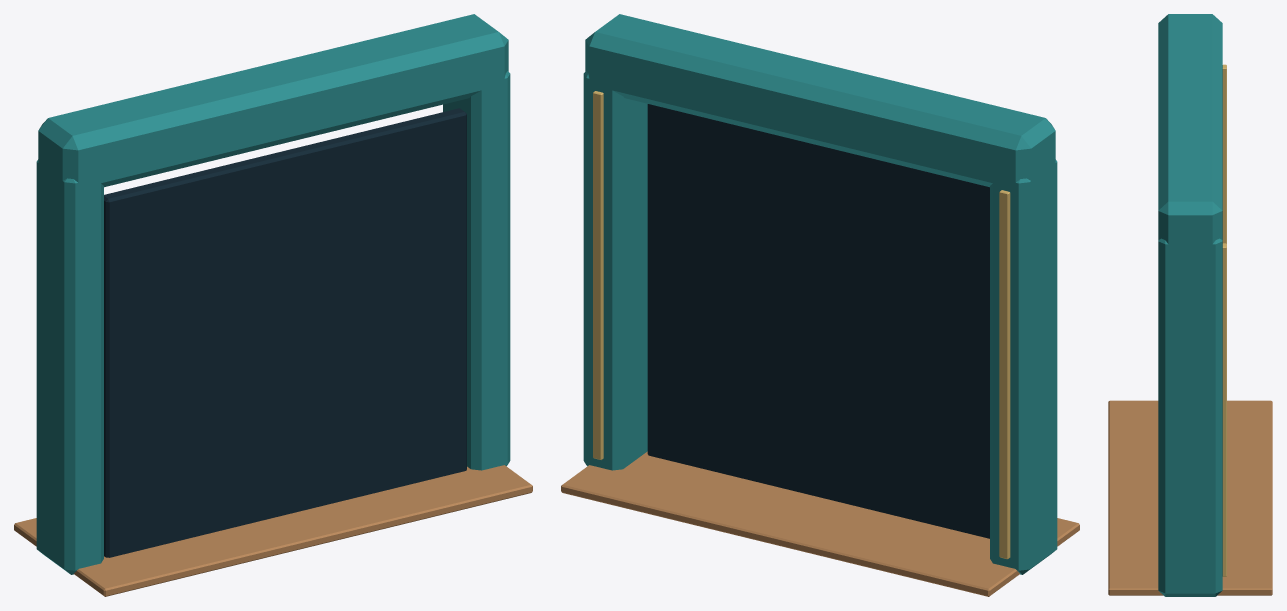
File: SM_Portal.obj
3 renders of one model, left to right at view 1: azimuth 30°, elevation 25°; view 2: azimuth 150°, elevation 25°; view 3: azimuth 270°, elevation 25°, orthographic. The views are drawn at different scales.
Visible parts, largest first — view 1: SM_Portal; view 2: SM_Portal; view 3: SM_Portal.
Boxes of the visible parts, x1=… form: SM_Portal: x1=14, y1=14, x2=532, y2=596; SM_Portal: x1=561, y1=14, x2=1079, y2=596; SM_Portal: x1=1108, y1=14, x2=1272, y2=596.
Bounding box in the file's own units: 3.95 × 3.7 × 1.4.
